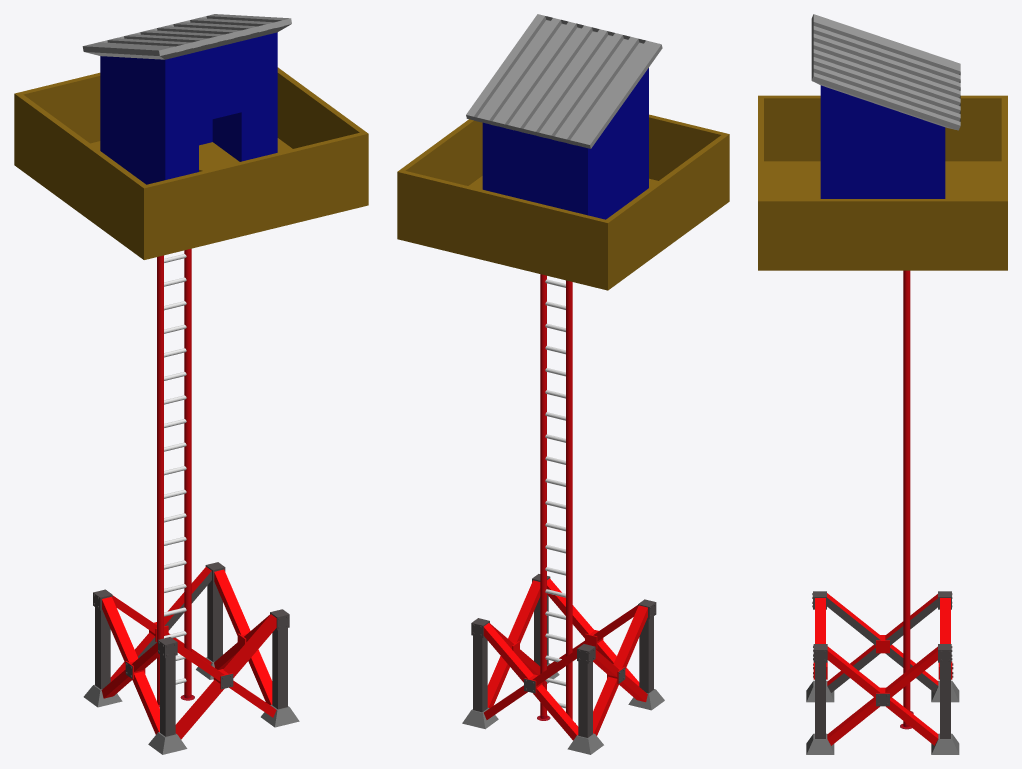
The model's file is tower.glb.
The picture shows the model from 3 angles, left to right: view 1: azimuth 30°, elevation 25°; view 2: azimuth 150°, elevation 25°; view 3: azimuth 270°, elevation 25°; orthographic projection. The views are drawn at different scales.
Visible parts, largest first — view 1: Cube.002, Cube.004, Cube.001, Cube.005, Cylinder, Cube.003; view 2: Cube.002, Cube.004, Cube.001, Cube.005, Cylinder, Cube.003; view 3: Cube.002, Cube.004, Cube.001, Cube.005, Cube.003.
Part boxes in pixels (bbox=[...]): Cube.002: bbox=[14, 67, 368, 259]; Cube.004: bbox=[82, 14, 291, 184]; Cube.001: bbox=[93, 562, 289, 739]; Cube.005: bbox=[157, 248, 191, 701]; Cylinder: bbox=[164, 254, 186, 684]; Cube.003: bbox=[83, 657, 299, 754]; Cube.002: bbox=[397, 114, 729, 290]; Cube.004: bbox=[466, 14, 662, 219]; Cube.001: bbox=[471, 574, 656, 740]; Cube.005: bbox=[540, 274, 572, 719]; Cylinder: bbox=[545, 279, 565, 708]; Cube.003: bbox=[462, 663, 664, 754]; Cube.002: bbox=[758, 95, 1007, 270]; Cube.004: bbox=[811, 14, 960, 198]; Cube.001: bbox=[812, 591, 953, 745]; Cube.005: bbox=[903, 270, 910, 723]; Cube.003: bbox=[806, 680, 959, 754].
Size of the model in its own units: 36 by 108 by 36.
